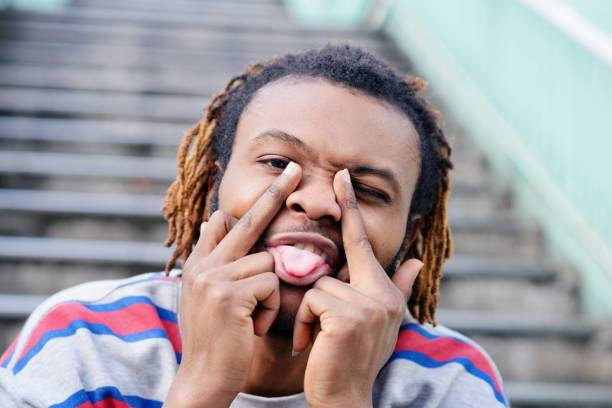insulting_gesture: (181, 152, 426, 361)
